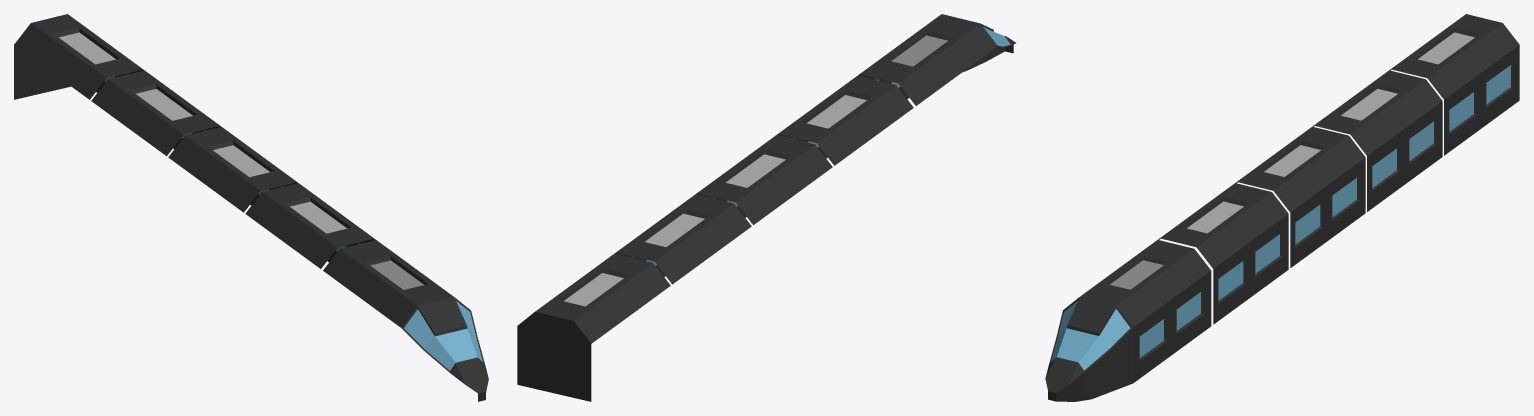
Rendered from LowPolyTrain.fbx.
3 renders of one model, left to right at view 1: azimuth 30°, elevation 25°; view 2: azimuth 150°, elevation 25°; view 3: azimuth 330°, elevation 25°, orthographic. The views are drawn at different scales.
Parts seen in each view (by area): view 1: Cube, Cube.004, Cube.001, Cube.002, Cube.003; view 2: Cube.004, Cube, Cube.001, Cube.003, Cube.002; view 3: Cube, Cube.001, Cube.003, Cube.002, Cube.004.
Boxes of the visible parts, bbox=[...] form: Cube: bbox=[323, 240, 488, 401]; Cube.004: bbox=[14, 14, 144, 99]; Cube.001: bbox=[245, 183, 375, 268]; Cube.002: bbox=[168, 127, 298, 212]; Cube.003: bbox=[91, 70, 221, 156]; Cube.004: bbox=[517, 253, 670, 401]; Cube: bbox=[858, 14, 1015, 105]; Cube.001: bbox=[777, 75, 913, 165]; Cube.003: bbox=[615, 194, 751, 284]; Cube.002: bbox=[696, 135, 832, 224]; Cube: bbox=[1045, 240, 1211, 401]; Cube.001: bbox=[1158, 183, 1288, 324]; Cube.003: bbox=[1313, 70, 1442, 211]; Cube.002: bbox=[1236, 126, 1365, 267]; Cube.004: bbox=[1390, 14, 1519, 155].
Size of the model in its own units: 200 by 200 by 2130.
1 material, 1 textured.
